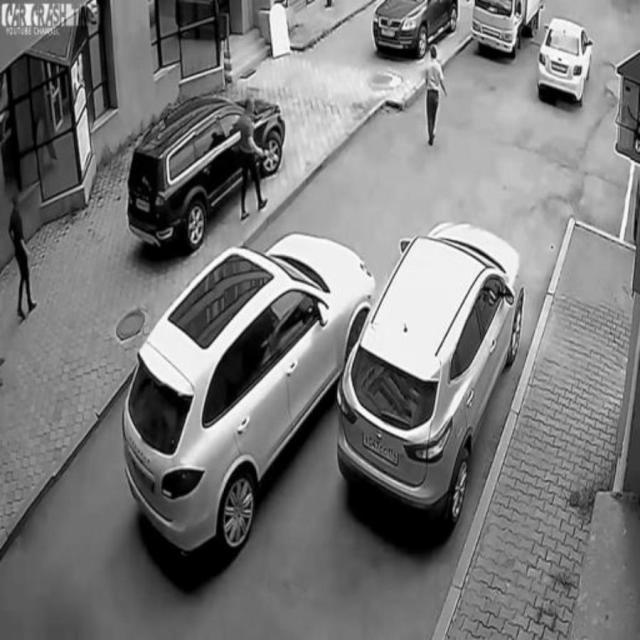person: (4, 183, 40, 320), (239, 89, 269, 223), (423, 39, 447, 143)
vehicle: (120, 232, 348, 564), (335, 216, 525, 540), (128, 93, 286, 253), (538, 13, 593, 107), (369, 1, 460, 57), (472, 0, 544, 57)
